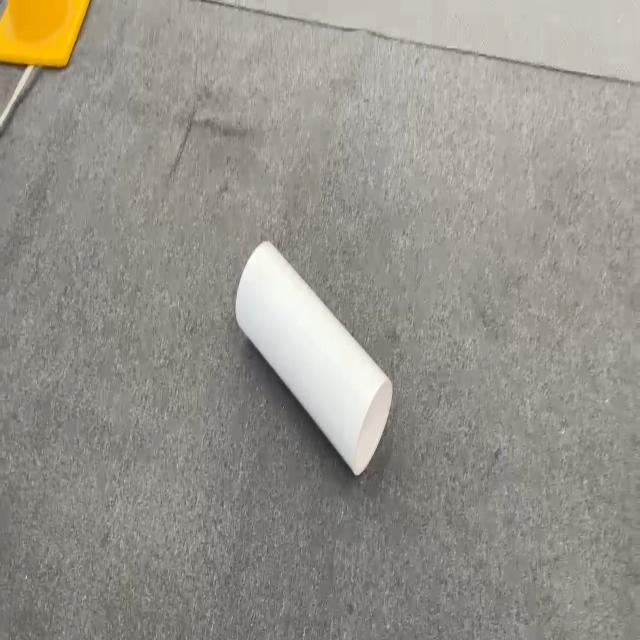coral: (234, 238, 393, 476)
